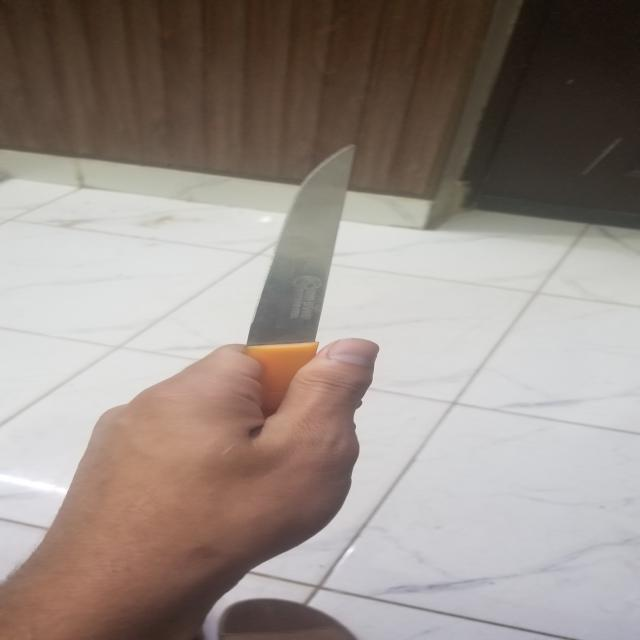Knife: (181, 141, 405, 462)
